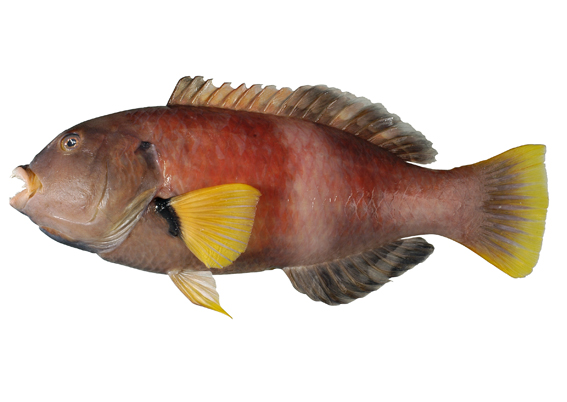fish: (9, 75, 549, 320)
